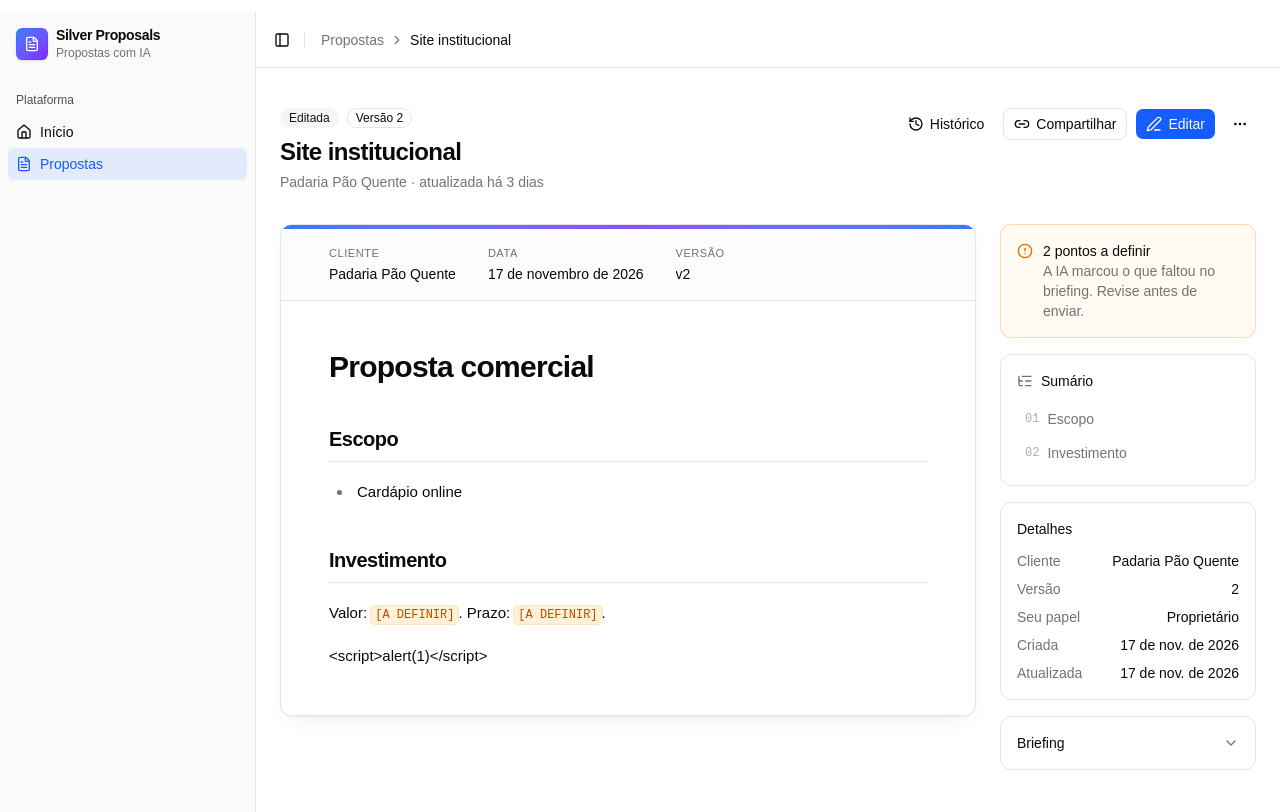
Scenario: ProposalPage › stops a running generation and keeps the saved content
The image size is (1280, 812).
What coordinates should you click on to do the following:
click the button named "Mais ações"
I would click on:
 (1240, 124)
Its box is x1=1224 y1=108 x2=1256 y2=140.
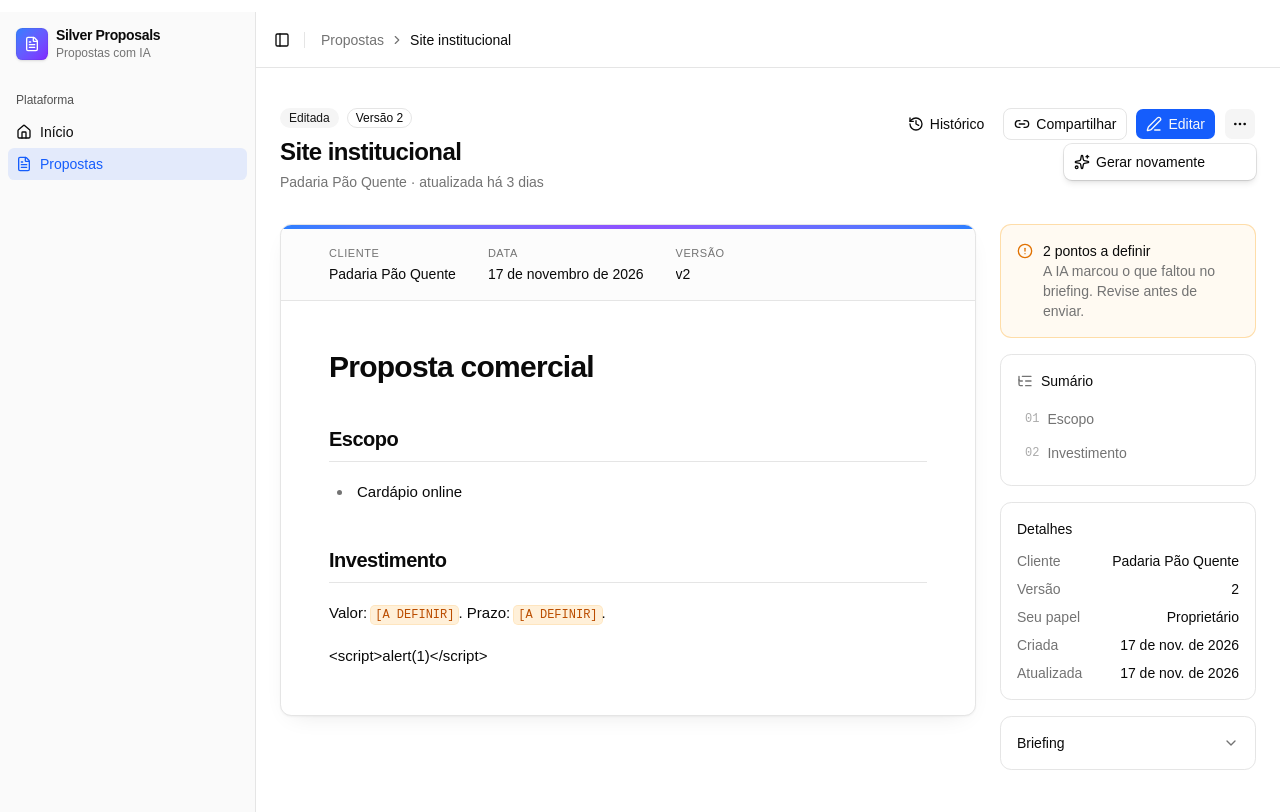
What coordinates should you click on to do the following:
click the menu item "Gerar novamente"
I would click on:
 (1140, 162)
Its box is x1=1074 y1=154 x2=1205 y2=170.
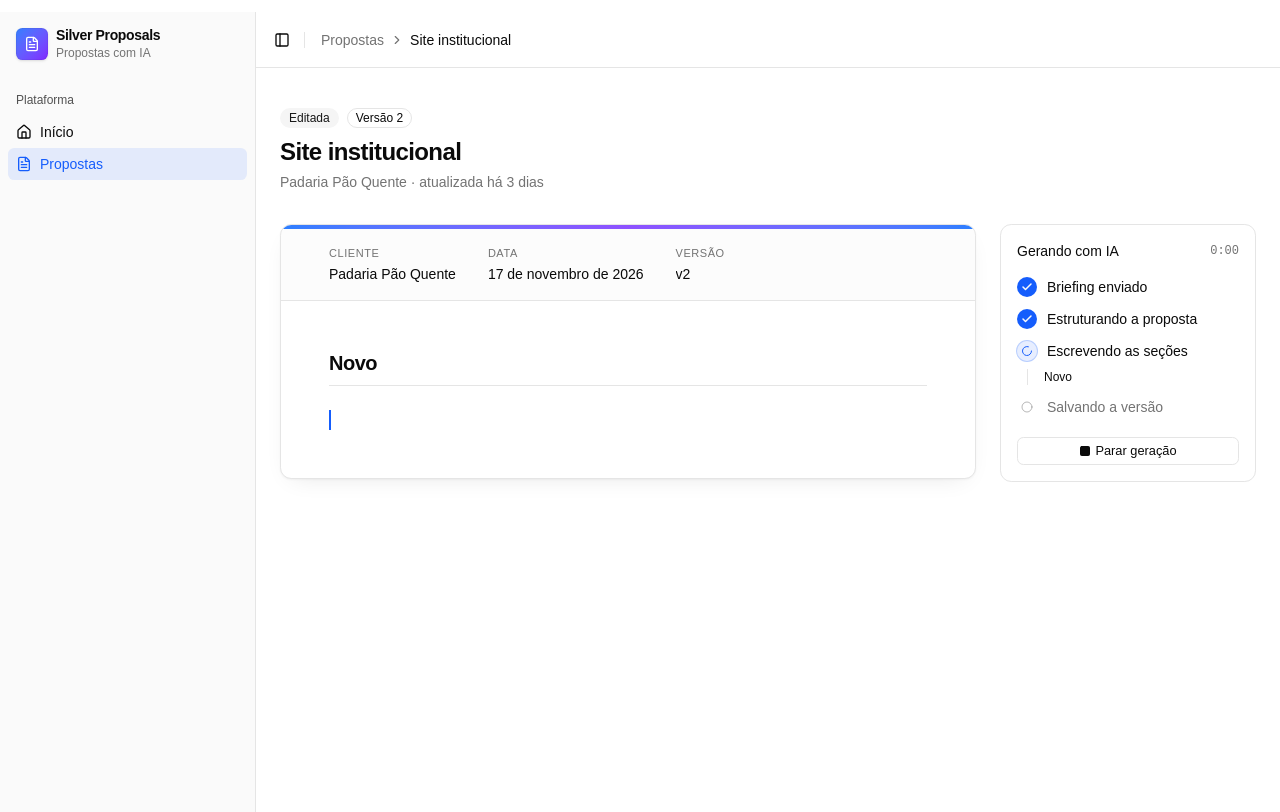
Result: the list named "Seções escritas" reads "Novo" at x1=1044 y1=370 x2=1072 y2=384
What coordinates should you click on to do the following:
click the button "Parar geração"
I would click on:
 (1128, 451)
Its box is x1=1017 y1=437 x2=1239 y2=465.
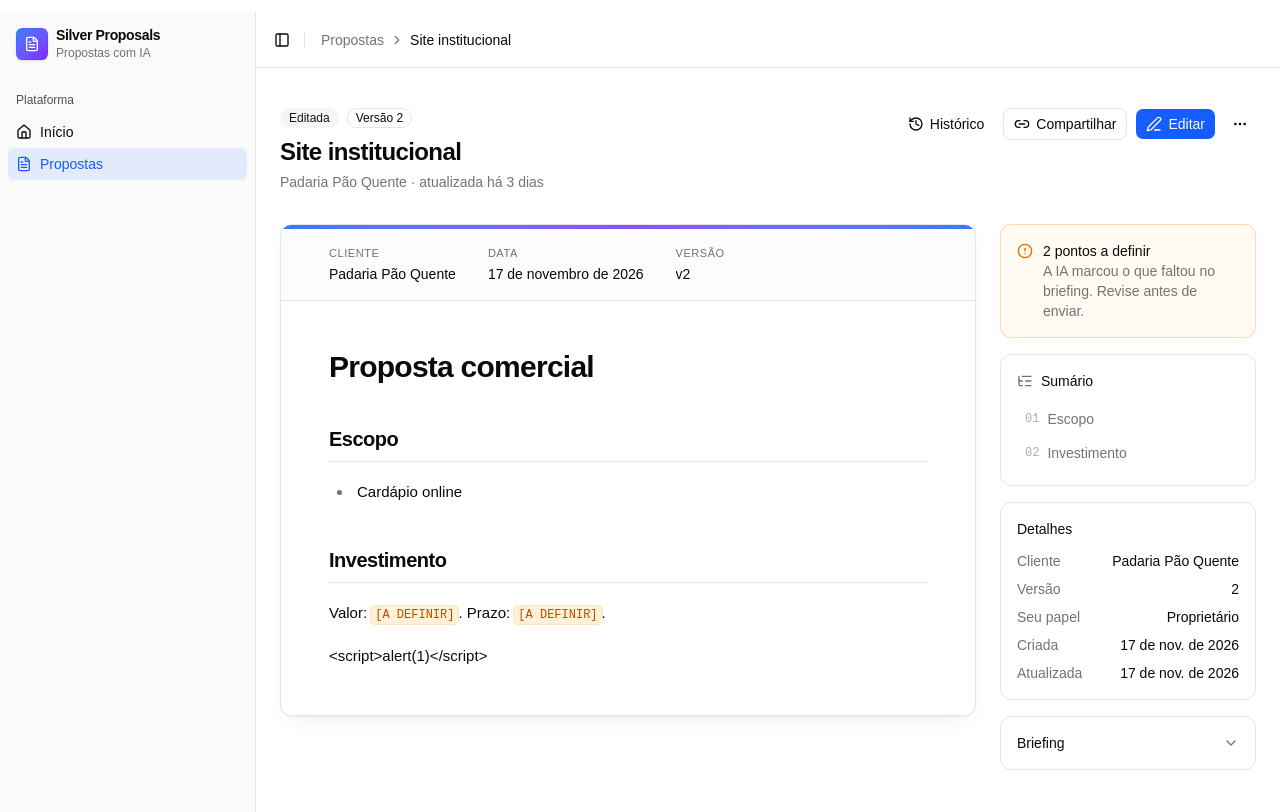
Result: the heading "Escopo" is shown at x1=329 y1=424 x2=927 y2=462
